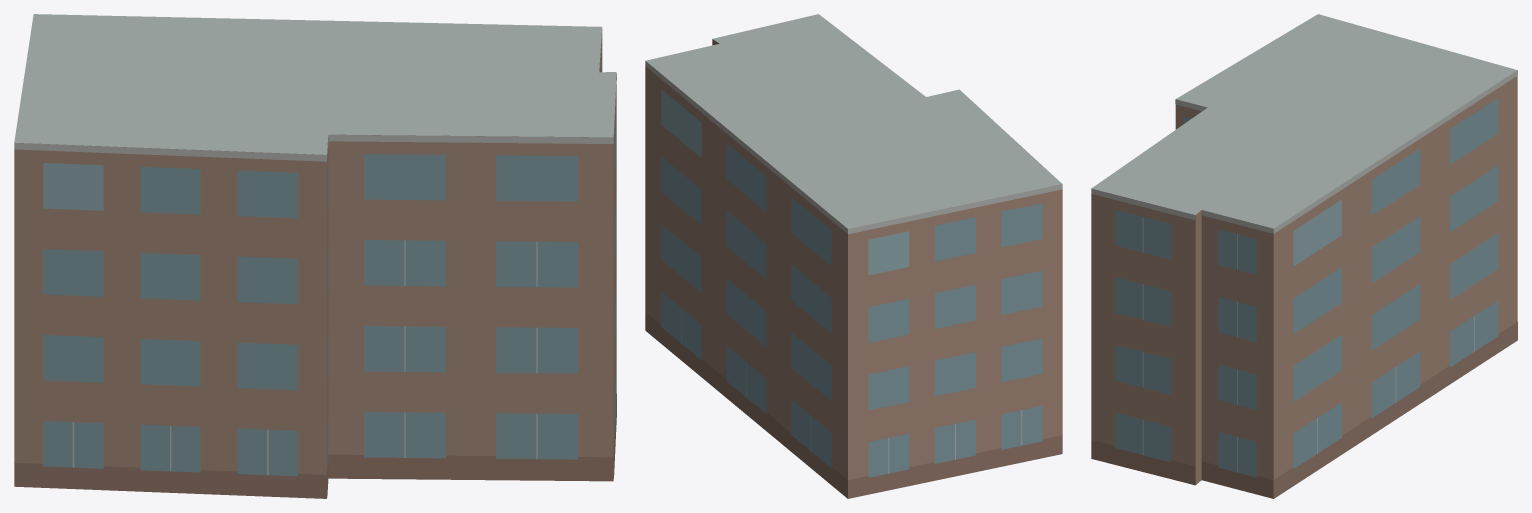
Rendered from survey-upis-33011226.glb.
The picture shows the model from 3 angles, left to right: view 1: azimuth 30°, elevation 25°; view 2: azimuth 150°, elevation 25°; view 3: azimuth 270°, elevation 25°; orthographic projection. The views are drawn at different scales.
Parts seen in each view (by area): view 1: survey-upis-33011226.tmp; view 2: survey-upis-33011226.tmp; view 3: survey-upis-33011226.tmp.
Part boxes in pixels (x1,y1,x2,y2): survey-upis-33011226.tmp: (14, 14, 616, 498); survey-upis-33011226.tmp: (645, 14, 1062, 498); survey-upis-33011226.tmp: (1091, 14, 1517, 498).
Bounding box in the file's own units: 21.3 × 12.5 × 17.89.
